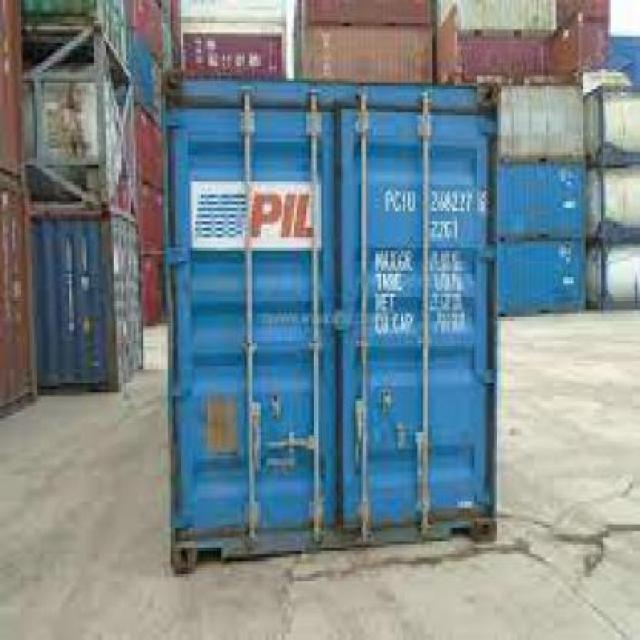ISO: (432, 217, 460, 240)
container_number: (381, 189, 481, 210)
